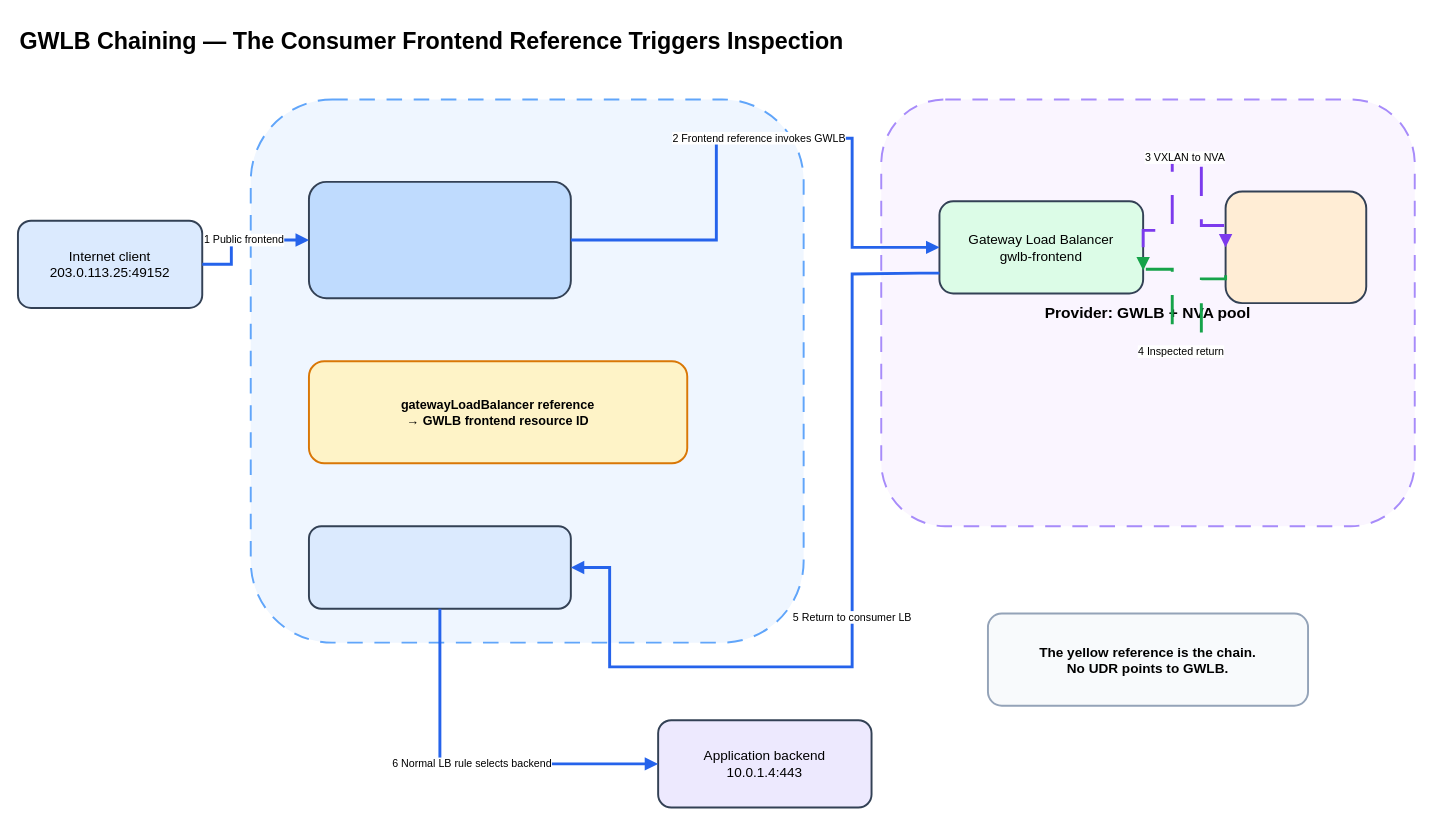
This 1440x825 diagram has some shape labels left out. Each missing label, with the centre of its shape:
Frontend IP configuration app-frontend Public IP 52.160.10.10: the point at 439,239
LB rule TCP 443 → app-backend-pool: the point at 439,567
NVA backend pool NVA-1 NVA-2: the point at 1295,247
